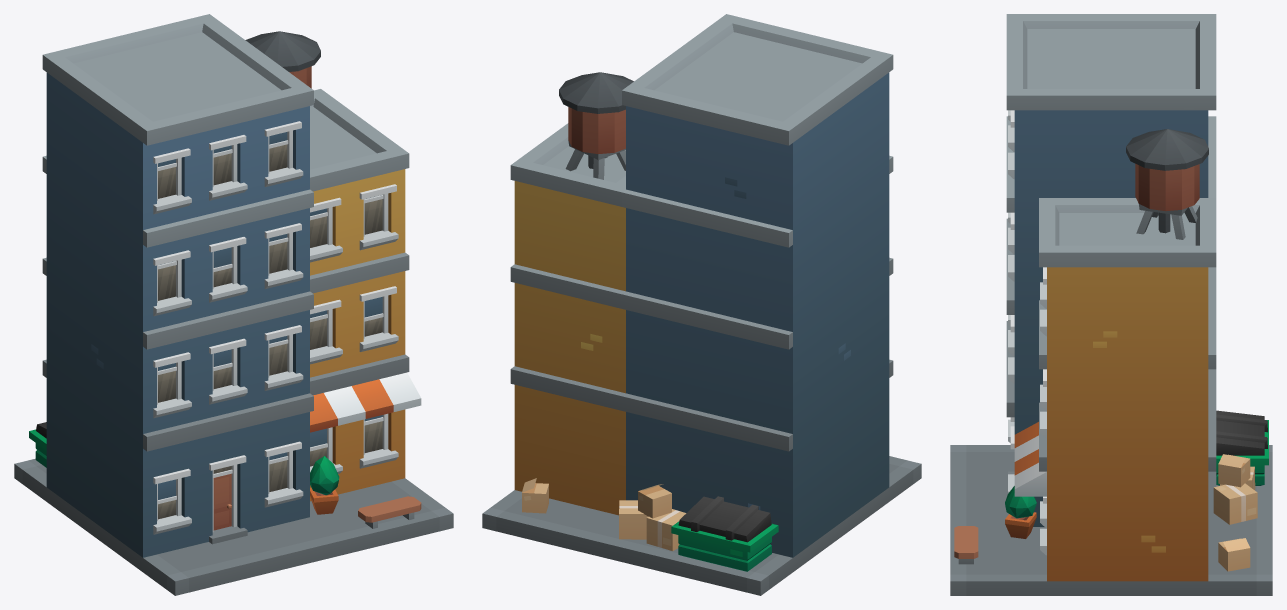
Rendered from building_H.obj.
3 views of the same model, side by side, from view 1: azimuth 30°, elevation 25°; view 2: azimuth 150°, elevation 25°; view 3: azimuth 270°, elevation 25° (orthographic).
Size of the model in its own units: 2.01 by 3.05 by 2.
Materials: 1 (1 with a texture image).
